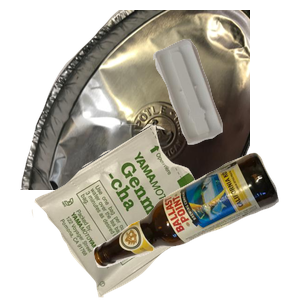glass: (91, 150, 300, 300)
metal: (18, 10, 258, 190)
plastic: (150, 36, 300, 173)
trash: (29, 124, 238, 300)
